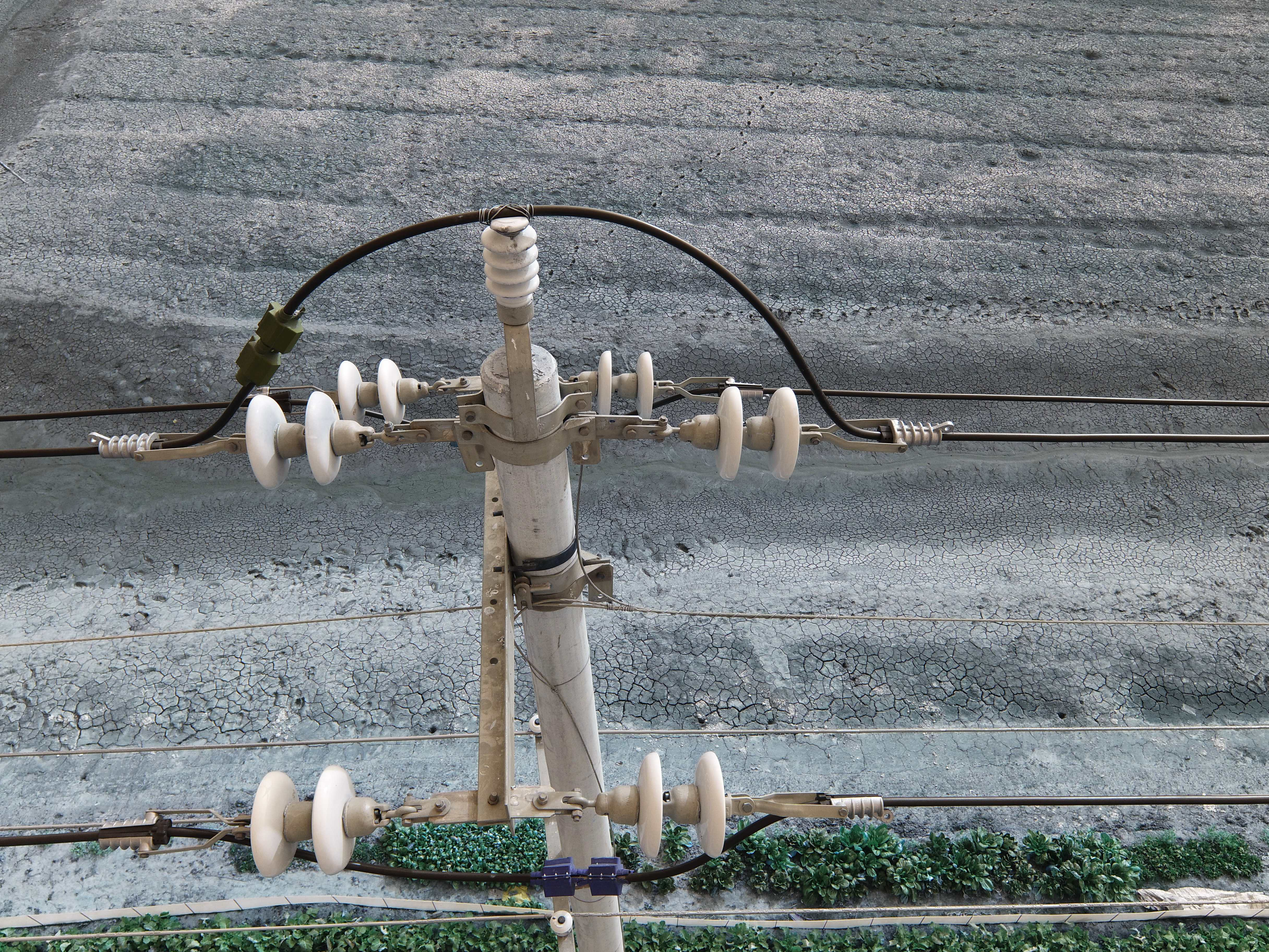severe_soiling_no_discharge_whole: (477, 205, 544, 325)
